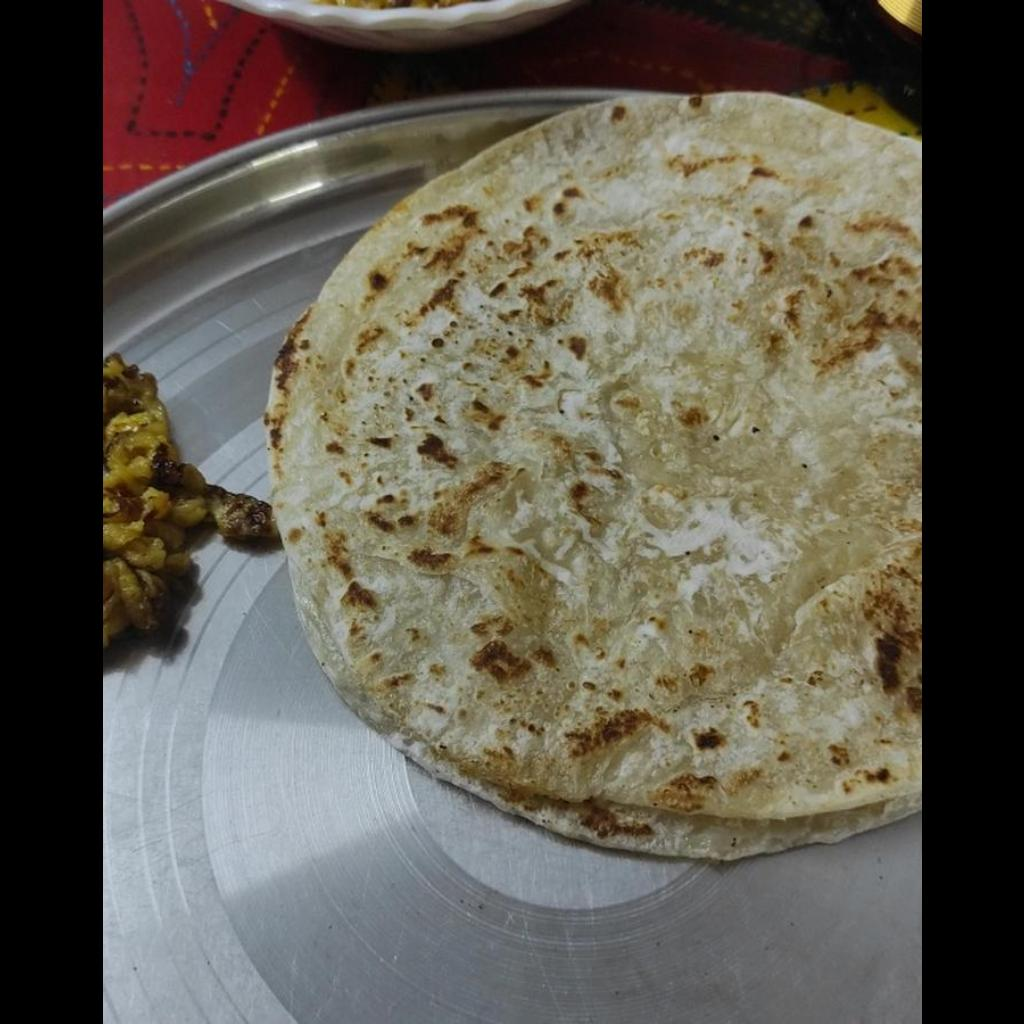ruti: (266, 92, 920, 859)
vaji: (102, 353, 268, 645)
